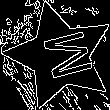M_W: (29, 27, 91, 84)
